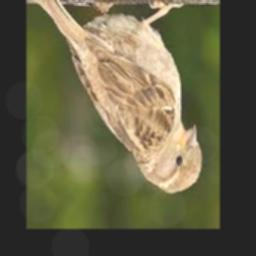Sparrow: (32, 0, 201, 194)
